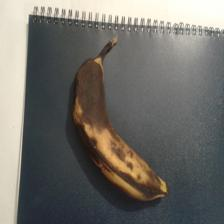Banana Rotten: (66, 26, 172, 200)
